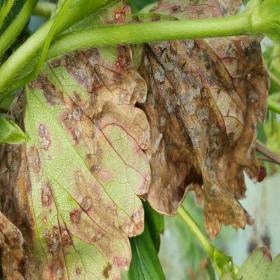Angular Leafspot: (0, 0, 152, 279), (128, 0, 271, 242), (0, 213, 26, 279)
